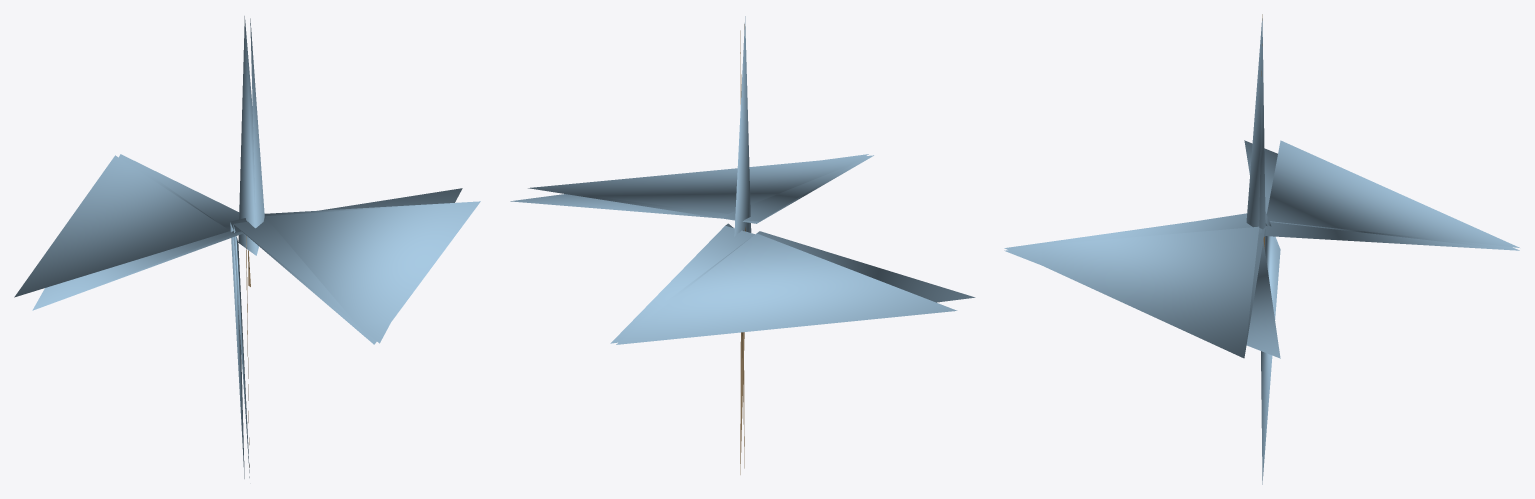
Rendered from equip_weapon_mithril_pickaxe.glb.
3 renders of one model, left to right at view 1: azimuth 30°, elevation 25°; view 2: azimuth 150°, elevation 25°; view 3: azimuth 270°, elevation 25°, orthographic.
Visible parts, largest first — view 1: equip_weapon_mithril_pickaxe; view 2: equip_weapon_mithril_pickaxe; view 3: equip_weapon_mithril_pickaxe.
Boxes of the visible parts, x1,y1,x2,y2 form: equip_weapon_mithril_pickaxe: [14, 16, 480, 478]; equip_weapon_mithril_pickaxe: [510, 16, 975, 474]; equip_weapon_mithril_pickaxe: [1004, 14, 1519, 484].
Size of the model in its own units: 2 by 2 by 2.
